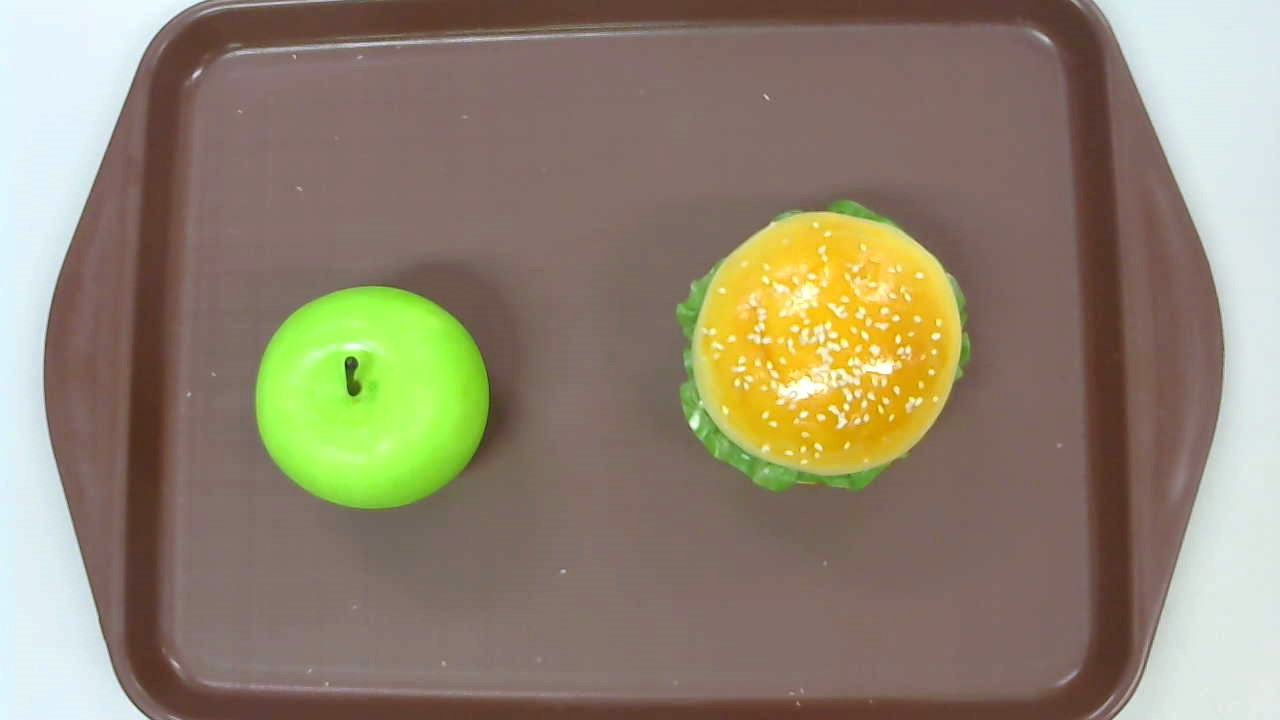green apple: (254, 284, 489, 510)
hamburger: (673, 198, 972, 491)
